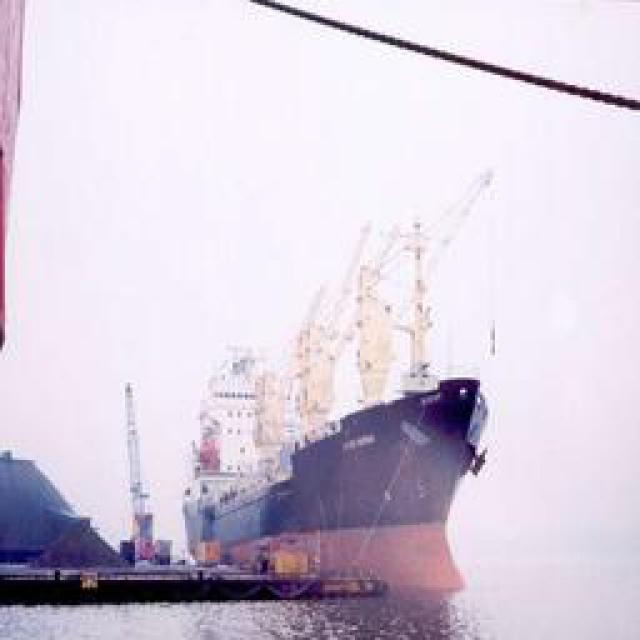Ship: (118, 373, 486, 608)
